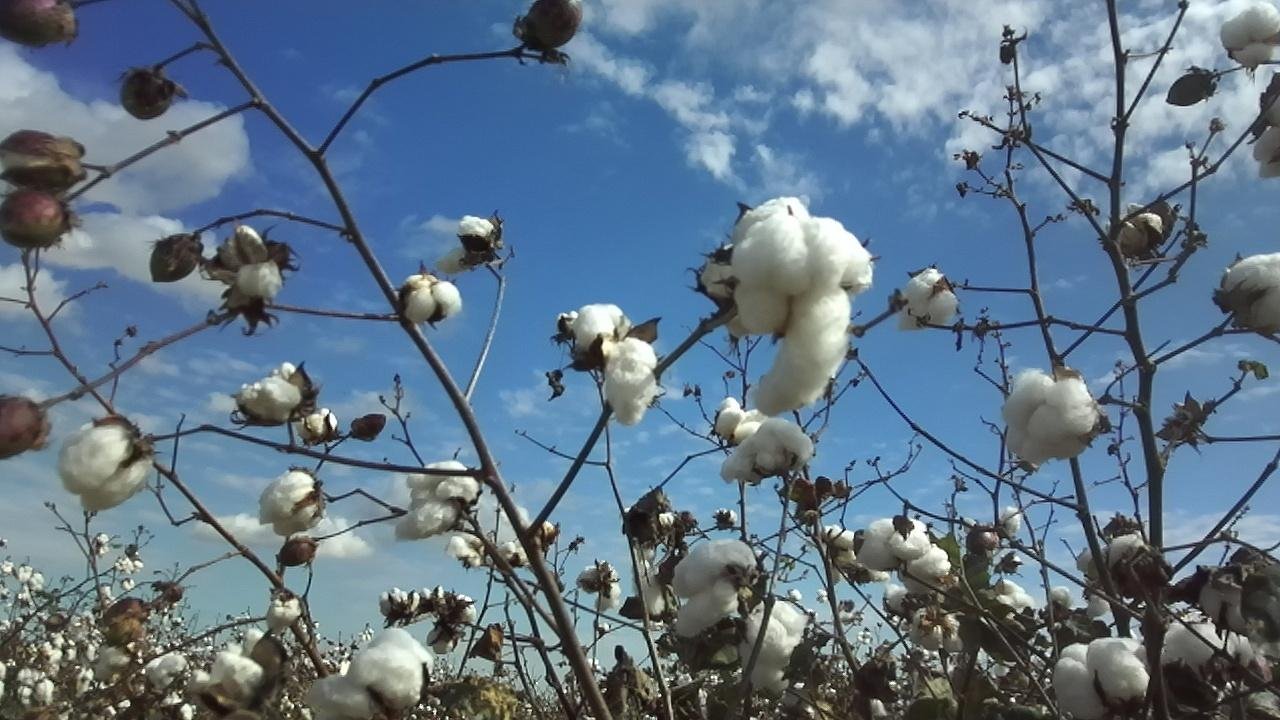cotton_ready: (734, 194, 874, 413), (305, 624, 439, 720), (572, 305, 657, 427), (57, 414, 157, 513), (1004, 371, 1099, 467), (670, 537, 759, 639), (1058, 635, 1149, 719), (395, 459, 477, 539), (1077, 534, 1152, 618), (722, 418, 813, 484), (746, 594, 805, 695), (854, 519, 952, 579), (216, 225, 285, 301), (1224, 249, 1280, 333), (259, 467, 325, 537), (232, 359, 305, 421), (184, 649, 262, 703), (1168, 624, 1262, 667), (898, 266, 957, 334), (1219, 5, 1280, 70), (437, 212, 499, 270), (1104, 202, 1162, 257), (403, 273, 464, 324), (699, 248, 745, 305), (717, 397, 768, 438), (1254, 97, 1280, 177)
